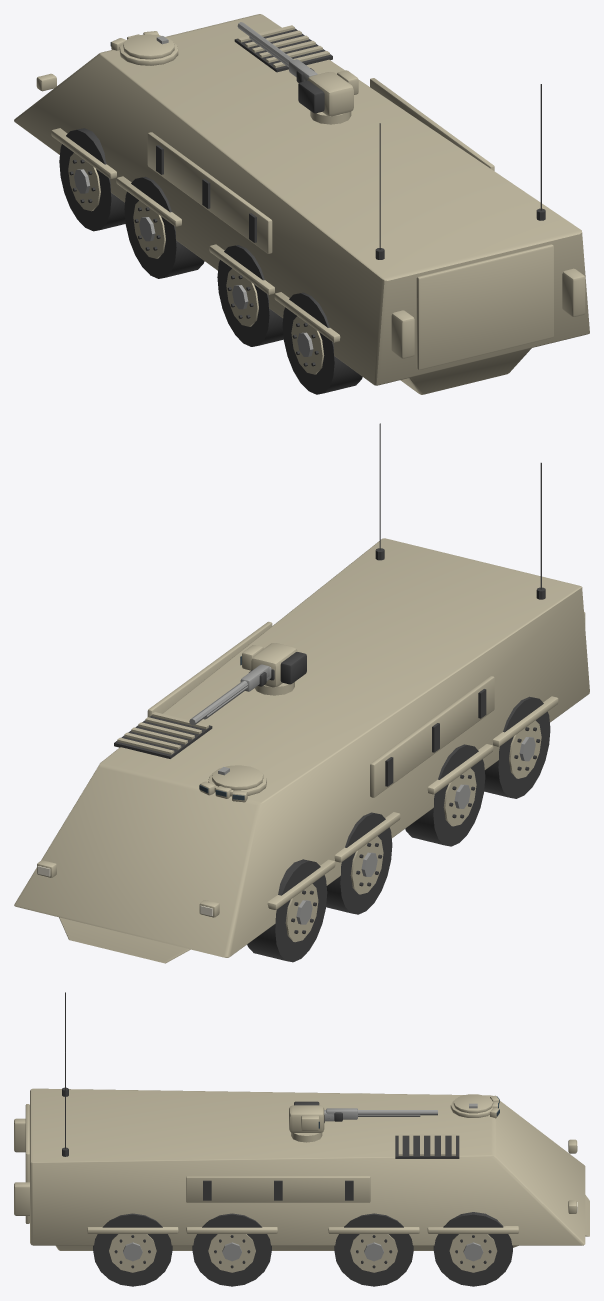
File: usa_apc_acvp.glb
3 views of the same model, one above another, from view 1: azimuth 30°, elevation 25°; view 2: azimuth 150°, elevation 25°; view 3: azimuth 270°, elevation 25° (orthographic). The views are drawn at different scales.
Parts seen in each view (by area): view 1: body, wheel_2, wheel_6, wheel_0, wheel_4, turret, barrel; view 2: body, wheel_0, wheel_4, wheel_6, wheel_2, turret, barrel; view 3: body, wheel_1, wheel_3, wheel_5, wheel_7, turret, barrel.
Boxes of the visible parts, x1,y1,x2,y2 form: body: (14,14,589,394); wheel_2: (124,176,204,278); wheel_6: (282,292,362,394); wheel_0: (59,128,125,231); wheel_4: (217,245,283,346); turret: (249,36,358,124); barrel: (237,22,317,82); body: (14,423,589,963); wheel_0: (247,859,327,962); wheel_4: (405,744,485,846); wheel_6: (484,696,550,798); wheel_2: (326,812,392,914); turret: (204,643,306,719); barrel: (189,664,269,725); body: (14,992,589,1250); wheel_1: (433,1212,512,1286); wheel_3: (334,1213,413,1286); wheel_5: (192,1213,271,1286); wheel_7: (93,1213,172,1286); turret: (289,1101,420,1142); barrel: (326,1108,437,1121).
Bounding box in the file's own units: 2.88 × 3.48 × 8.12.
